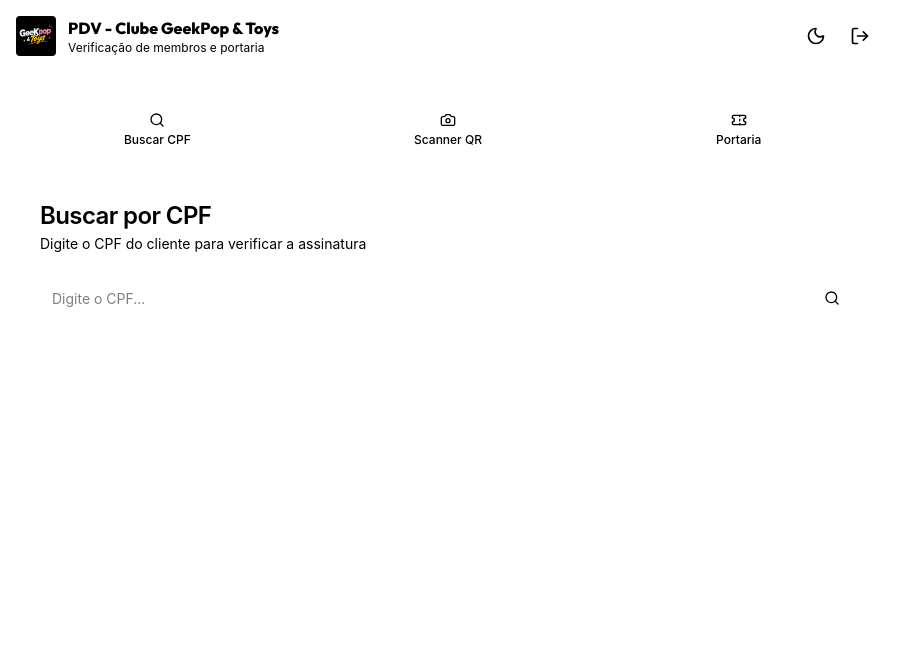
it: PDV › refuses a mistyped CPF without asking the server
Step 1. Type "11111111111" into the field with placeholder "Digite o CPF..." → (420,298), box x1=40 y1=278 x2=800 y2=318
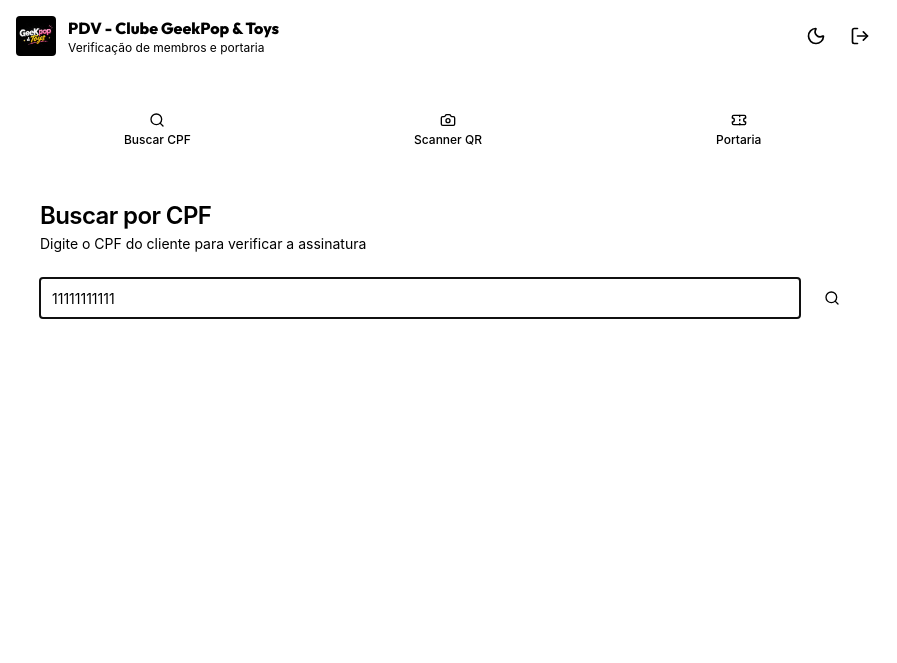
Step 2. Submit the form with placeholder "Digite o CPF...", box x1=40 y1=278 x2=856 y2=318
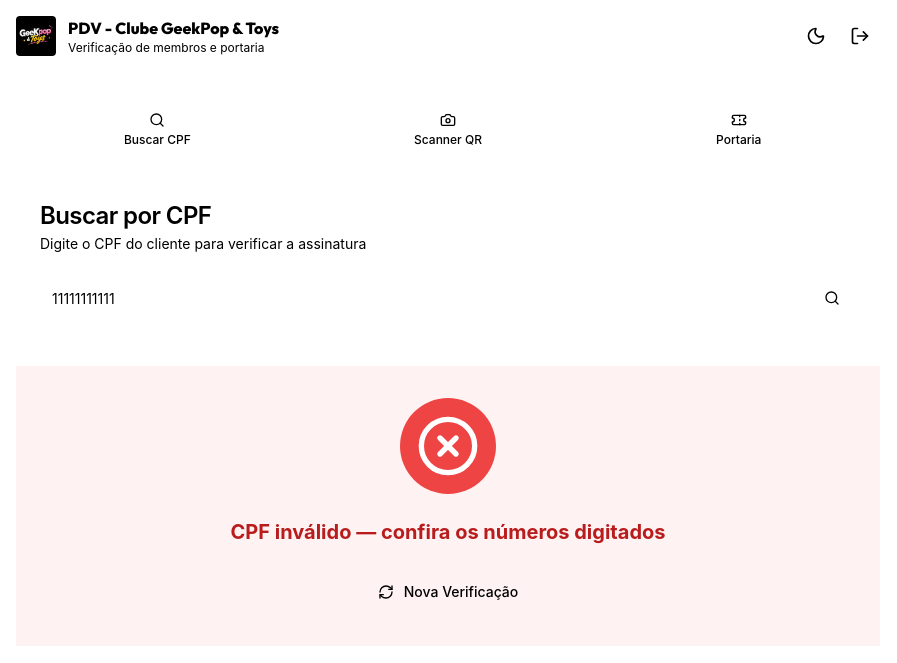
Now the text "CPF inválido — confira os números digitados" is shown, box x1=230 y1=520 x2=665 y2=544
